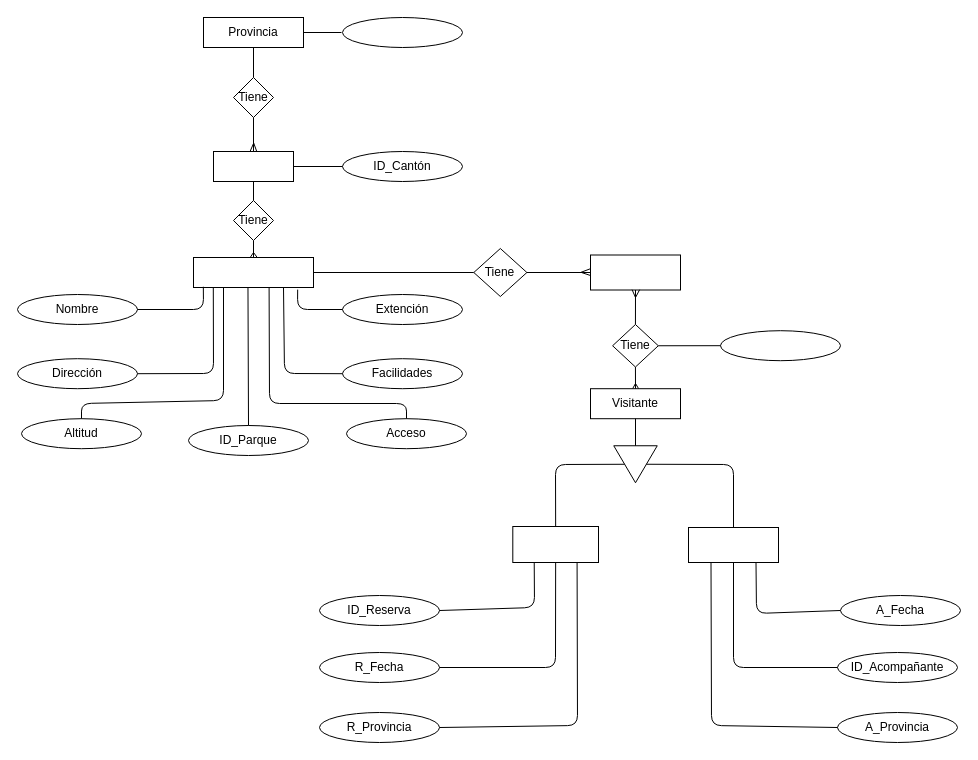
This 978x760 diagram has some shape labels left out. Here are the shapes that lost their labels. From the top down, the centre of each, then its label:
At point 402,32: "ID_Provincia".
At point 253,166: "Cantón".
At point 253,272: "Parque_Natural".
At point 635,272: "Reservación".
At point 780,345: "numero".
At point 635,464: "Es".
At point 555,544: "Reserva".
At point 733,544: "Acompañante".
